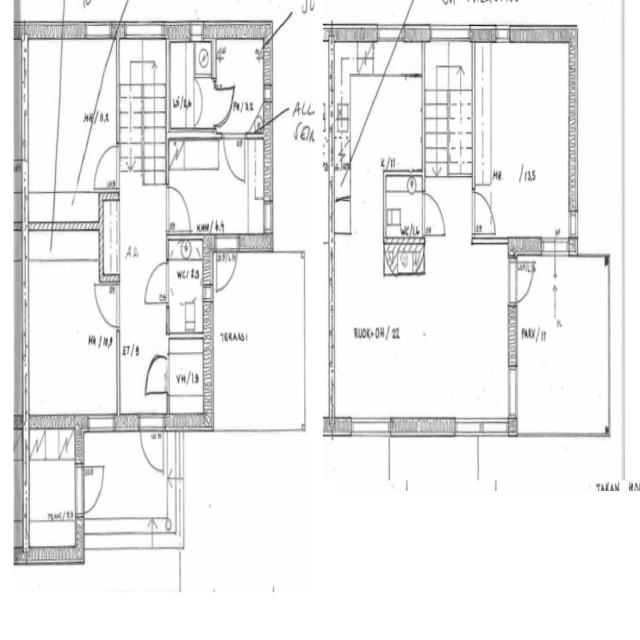door: (138, 414, 166, 478), (79, 461, 108, 519), (92, 279, 121, 332), (470, 185, 498, 239), (164, 181, 193, 233), (92, 140, 120, 192), (142, 351, 170, 400), (143, 258, 170, 308), (222, 133, 247, 186), (214, 242, 238, 296), (421, 189, 447, 238), (511, 258, 536, 305), (212, 83, 236, 129)
window: (454, 415, 510, 440), (349, 412, 392, 442), (72, 18, 116, 44), (428, 21, 472, 45), (124, 18, 164, 41), (507, 361, 519, 426), (374, 23, 404, 45), (494, 19, 513, 45), (264, 202, 274, 234)
zone: (332, 241, 510, 427), (475, 38, 574, 245), (22, 29, 120, 228), (23, 232, 118, 427), (512, 252, 610, 438), (211, 245, 307, 432), (332, 37, 426, 172), (169, 133, 267, 240), (169, 36, 270, 129), (24, 423, 82, 567), (166, 234, 212, 338), (166, 334, 208, 425), (384, 170, 424, 255)
